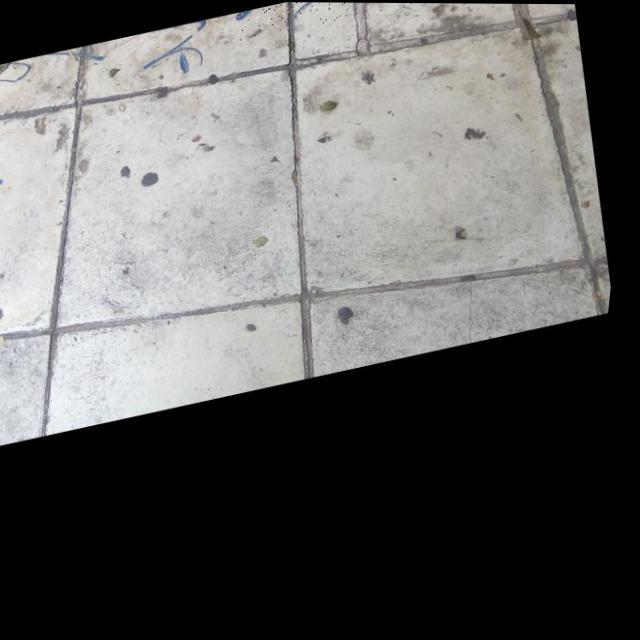-: (0, 17, 217, 121), (233, 1, 481, 44)
